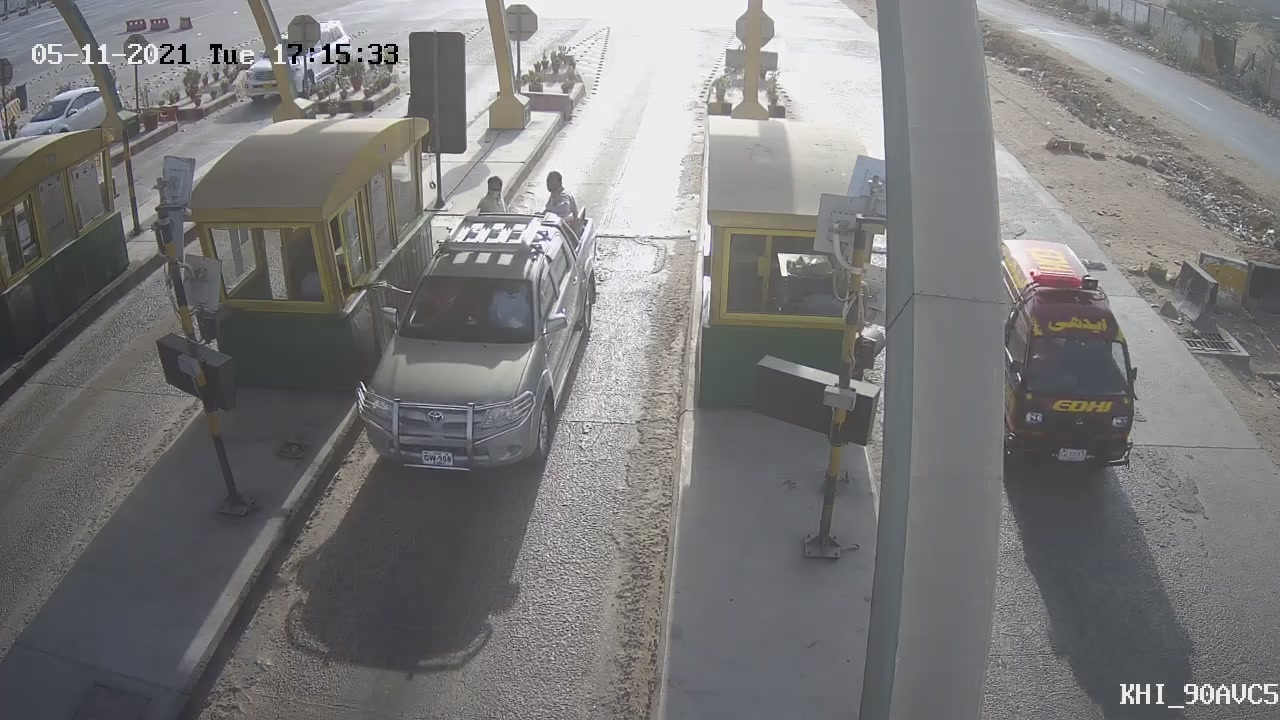F1: (331, 168, 622, 498)
